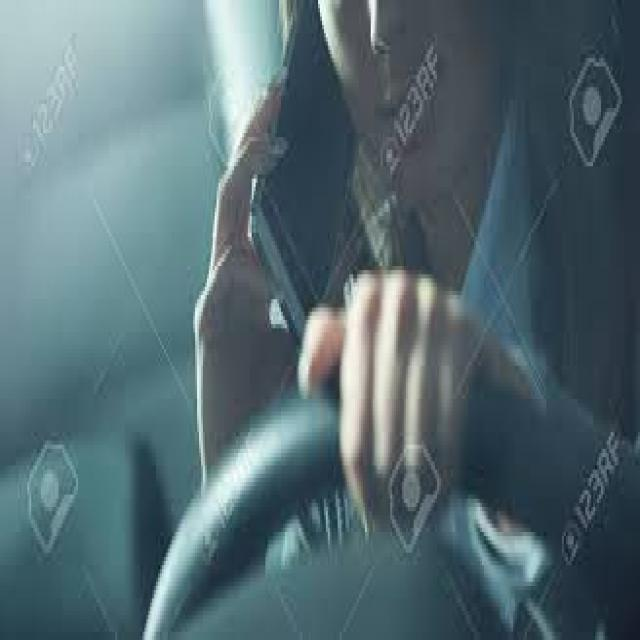Cellphone_calling: (191, 4, 361, 403)
